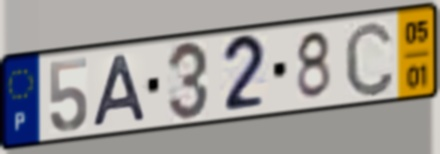2: (217, 31, 272, 120)
3: (164, 38, 211, 123)
5: (47, 54, 89, 135)
8: (294, 29, 334, 103)
A: (90, 51, 150, 130)
C: (342, 18, 397, 100)
